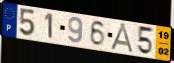1: (43, 12, 53, 41)
5: (19, 7, 37, 38), (137, 25, 154, 56)
6: (89, 20, 106, 48)
9: (67, 16, 85, 45)
A: (109, 22, 136, 54)
